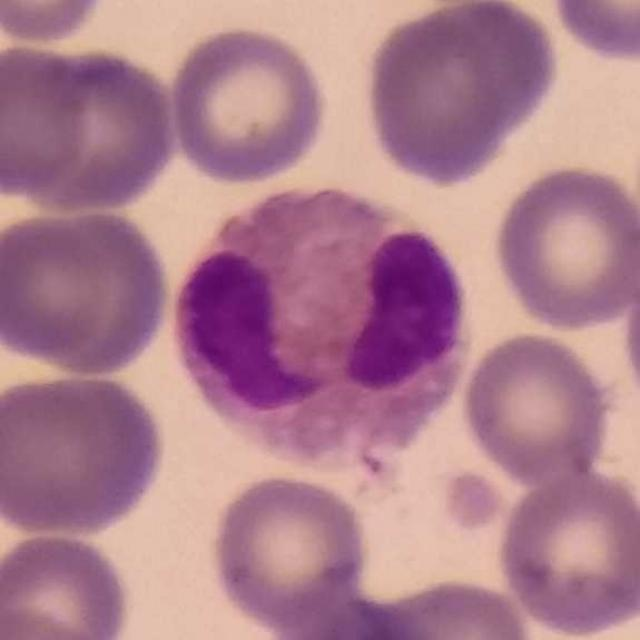Eosinophil: (162, 166, 478, 475)
Platelets: (442, 455, 510, 535)
RBC: (0, 203, 176, 377), (0, 367, 171, 539), (205, 468, 374, 636), (165, 20, 333, 188), (488, 160, 640, 333), (493, 466, 640, 639), (22, 51, 179, 212), (458, 328, 616, 486), (368, 25, 514, 183), (407, 0, 561, 141), (0, 39, 93, 205), (0, 527, 136, 640), (364, 573, 538, 640), (264, 585, 441, 640), (546, 0, 640, 64), (0, 0, 114, 48), (0, 602, 110, 640), (619, 243, 640, 423)
